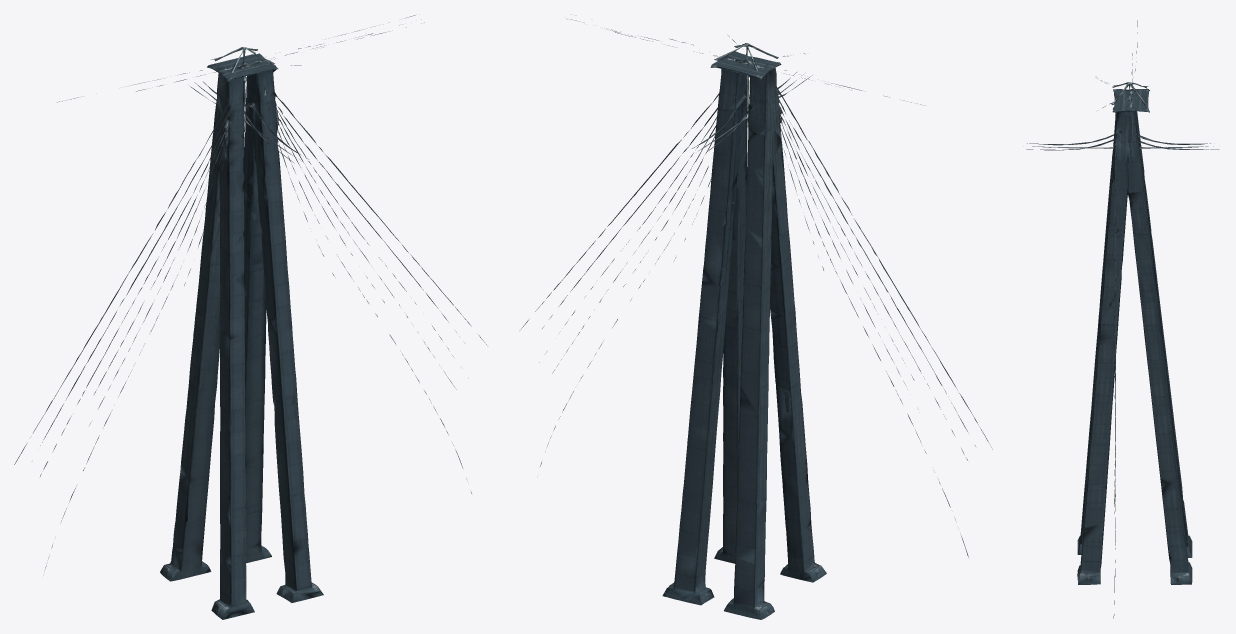
File: bridge_tower.glb
3 views of the same model, side by side, from view 1: azimuth 30°, elevation 25°; view 2: azimuth 150°, elevation 25°; view 3: azimuth 270°, elevation 25° (orthographic). The views are drawn at different scales.
Size of the model in its own units: 1.75 by 1.9 by 0.7177.
Materials: 1 (1 with a texture image).
